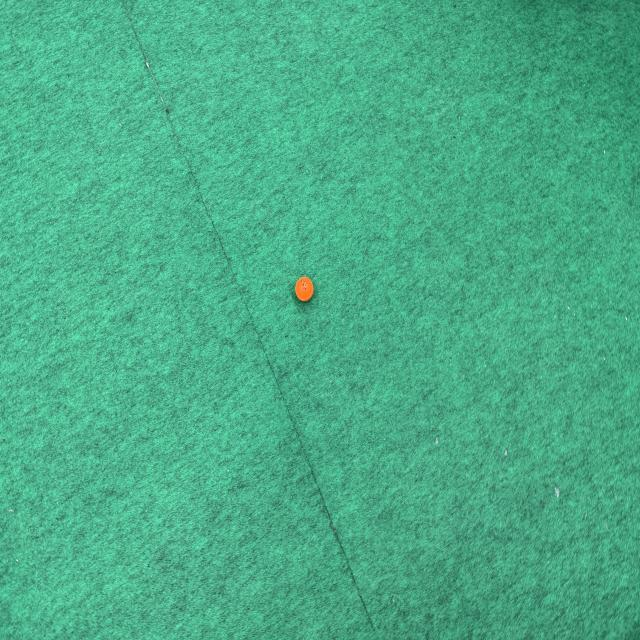ball: (295, 275, 315, 302)
